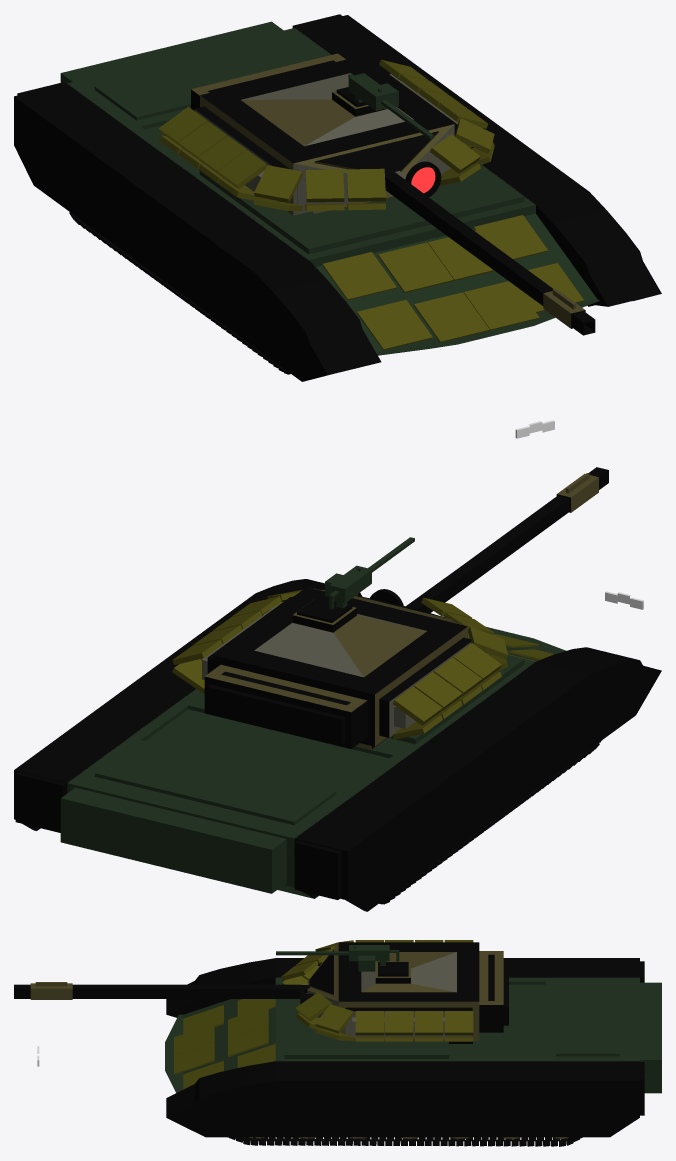
File: Tank001.glb
3 views of the same model, one above another, from view 1: azimuth 30°, elevation 25°; view 2: azimuth 150°, elevation 25°; view 3: azimuth 270°, elevation 25° (orthographic). The views are drawn at different scales.
Visible parts, largest first — view 1: Cube.002, Cube.001, Cube, Plane.003, ANTI-HEAT.002, Cube.003, ANTI-HEAT.001, Plane.008, whell.004; view 2: Cube.002, Cube.001, Cube, ANTI-HEAT.002, Cube.003, Plane.008, whell.004, ANTI-HEAT.001, Plane.003; view 3: Cube.002, Cube.001, Cube, Plane.003, ANTI-HEAT.002, Cube.003, whell.003, ANTI-HEAT.001, Plane.008.
Boxes of the visible parts, x1,y1,x2,y2 form: Cube.002: (14,14,661,381); Cube.001: (60,21,599,355); Cube: (191,53,465,215); Plane.003: (322,215,583,350); ANTI-HEAT.002: (159,59,494,210); Cube.003: (385,172,595,335); ANTI-HEAT.001: (305,134,480,210); Plane.008: (348,73,434,139); whell.004: (69,212,290,374); Cube.002: (14,579,661,911); Cube.001: (60,627,566,898); Cube: (202,587,471,749); ANTI-HEAT.002: (172,588,508,739); Cube.003: (406,467,608,612); Plane.008: (325,537,414,609); whell.004: (379,740,601,904); ANTI-HEAT.001: (321,590,494,638); Plane.003: (493,633,554,661); Cube.002: (166,958,644,1137); Cube.001: (165,977,661,1093); Cube: (300,942,508,1043); Plane.003: (174,999,275,1089); ANTI-HEAT.002: (315,940,473,1041); Cube.003: (14,982,309,999); whell.003: (228,1137,582,1146); ANTI-HEAT.001: (281,949,332,1029); Plane.008: (276,945,399,971).
Bounding box in the file's own units: 6.61 × 3.68 × 14.74.
